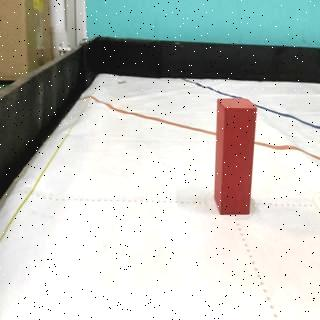redbox: (216, 96, 257, 214)
